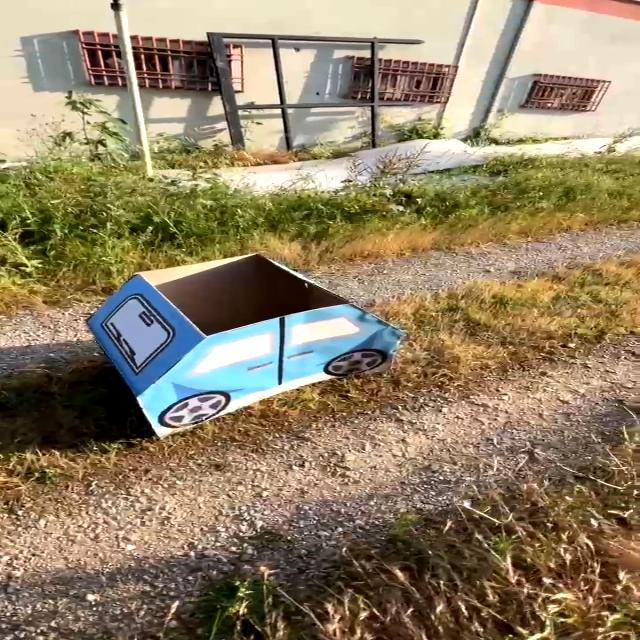blue_car: (41, 236, 466, 455)
